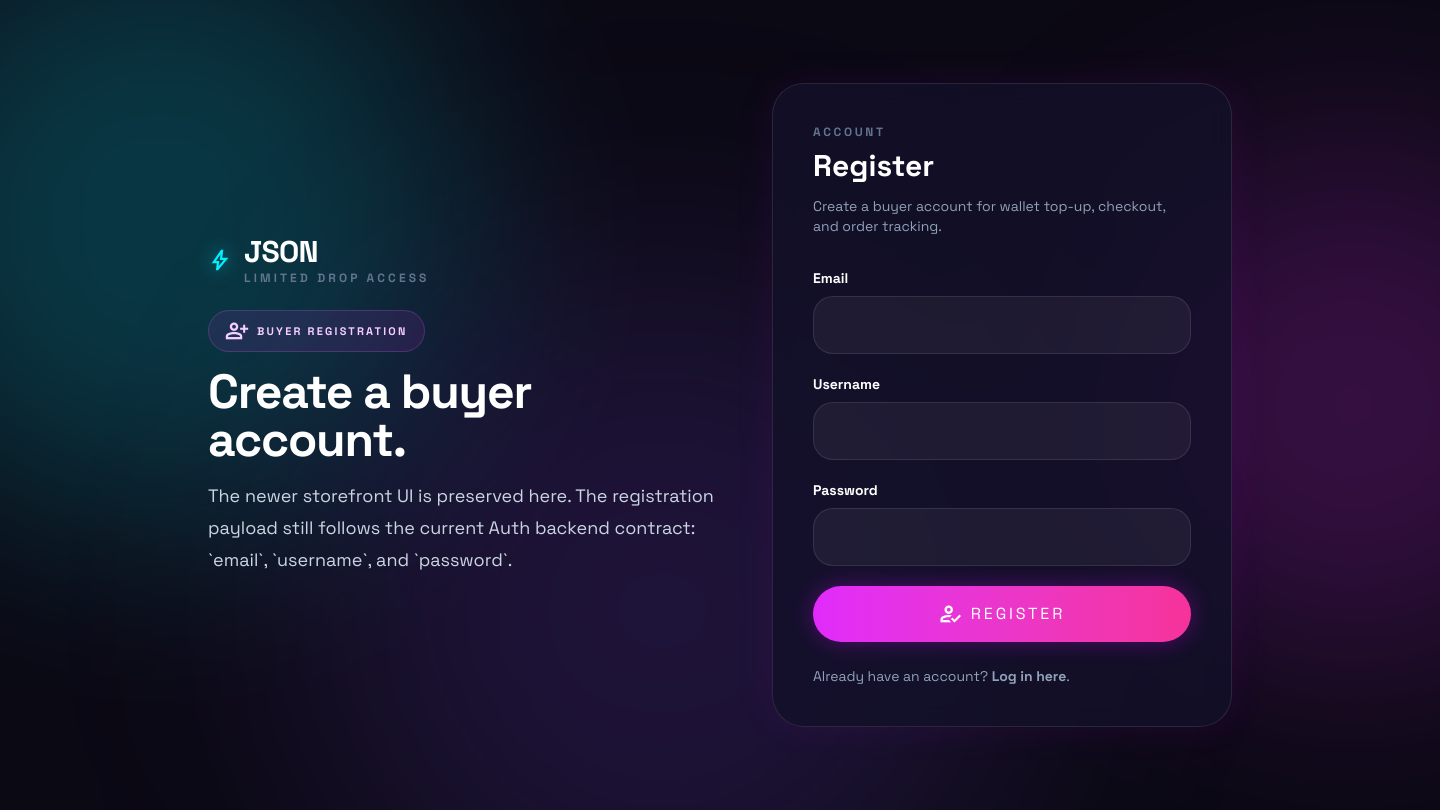
Test case: edge page and regression flows › shows registration failures from the auth service
The image size is (1440, 810).
Step 1. Type "taken@json.app" into the field labelled "Email" → (1002, 325), box [813,296,1191,354]
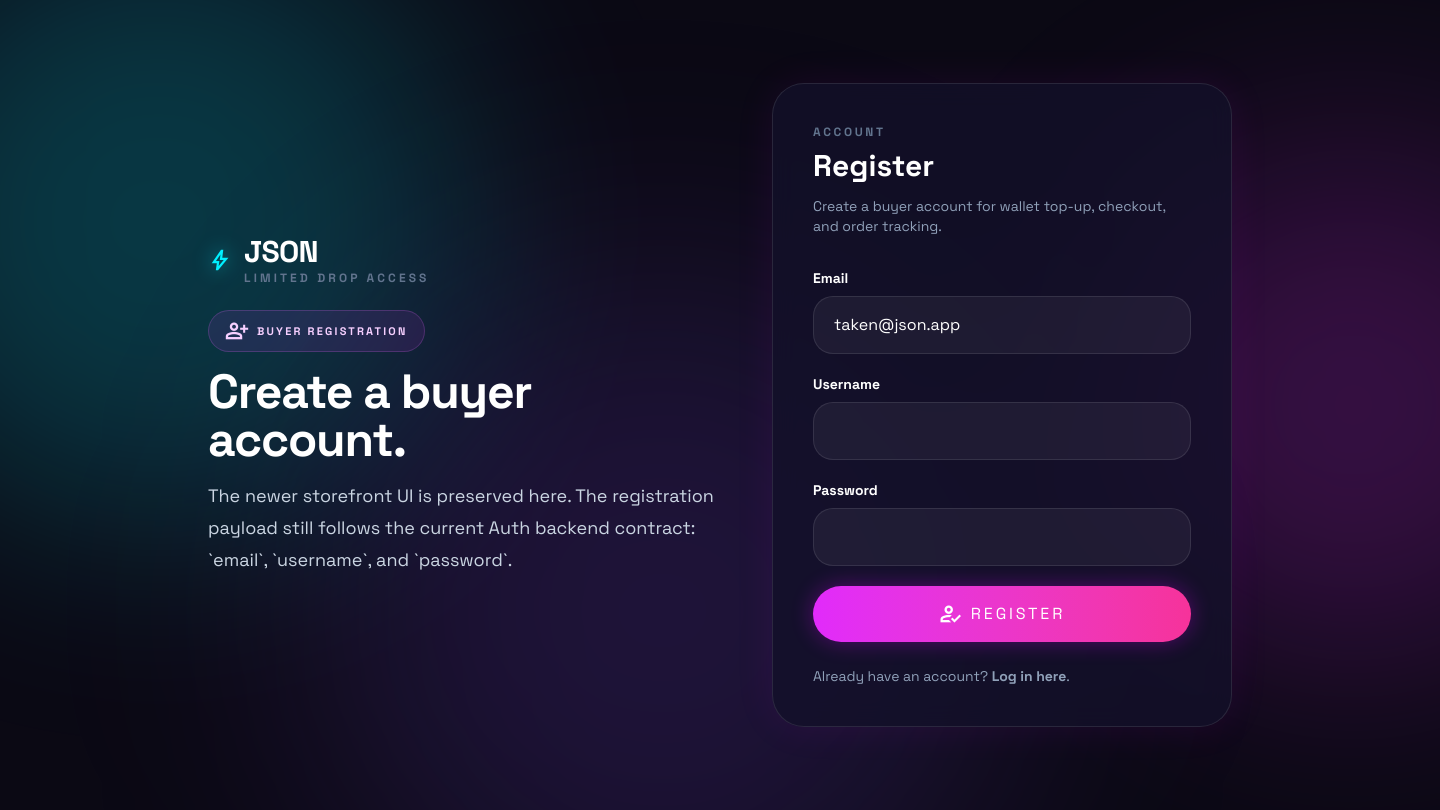
Step 2. Type "taken" into the field labelled "Username" → (1002, 431), box [813,402,1191,460]
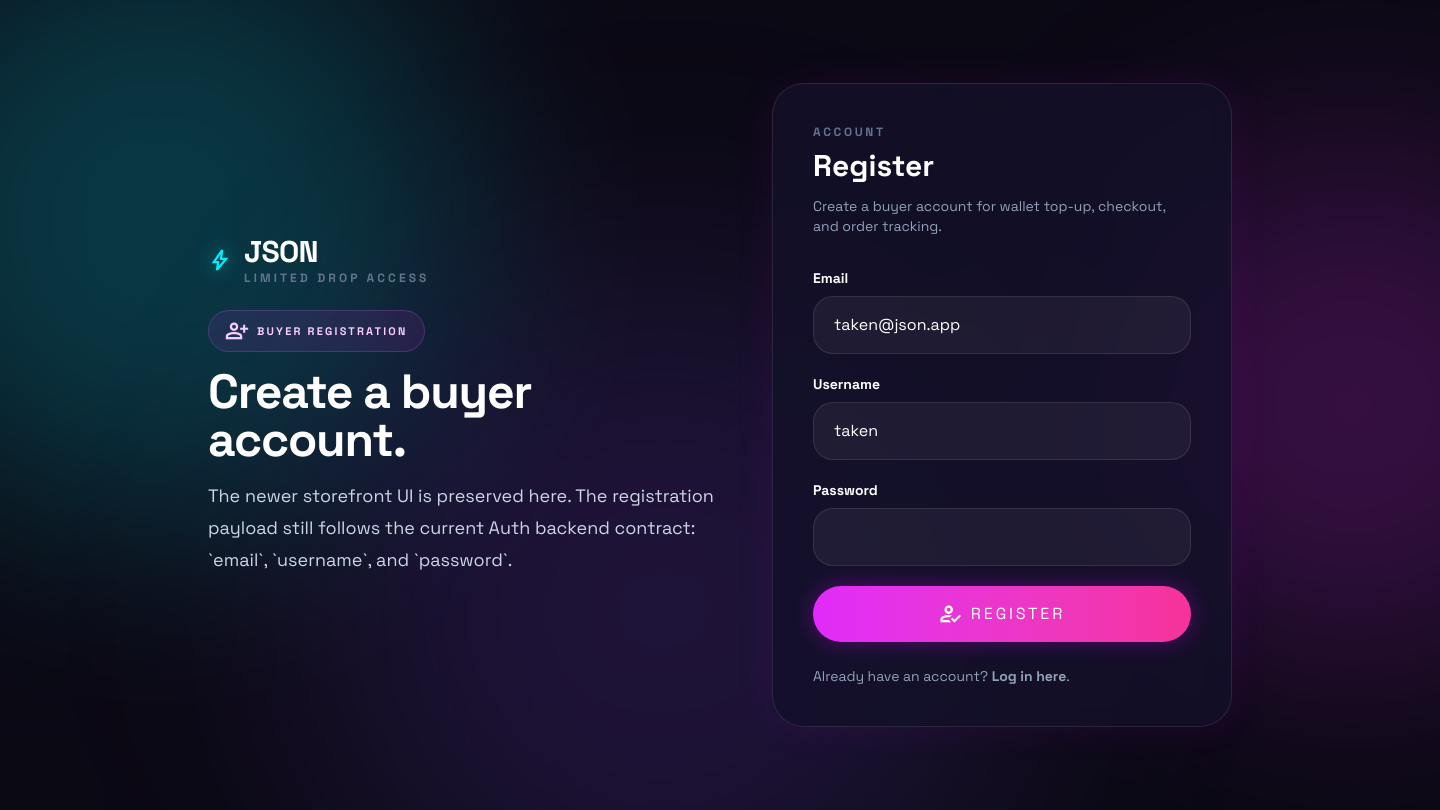
Step 3. Type "Password123!" into the password field labelled "Password" → (1002, 537), box [813,508,1191,566]
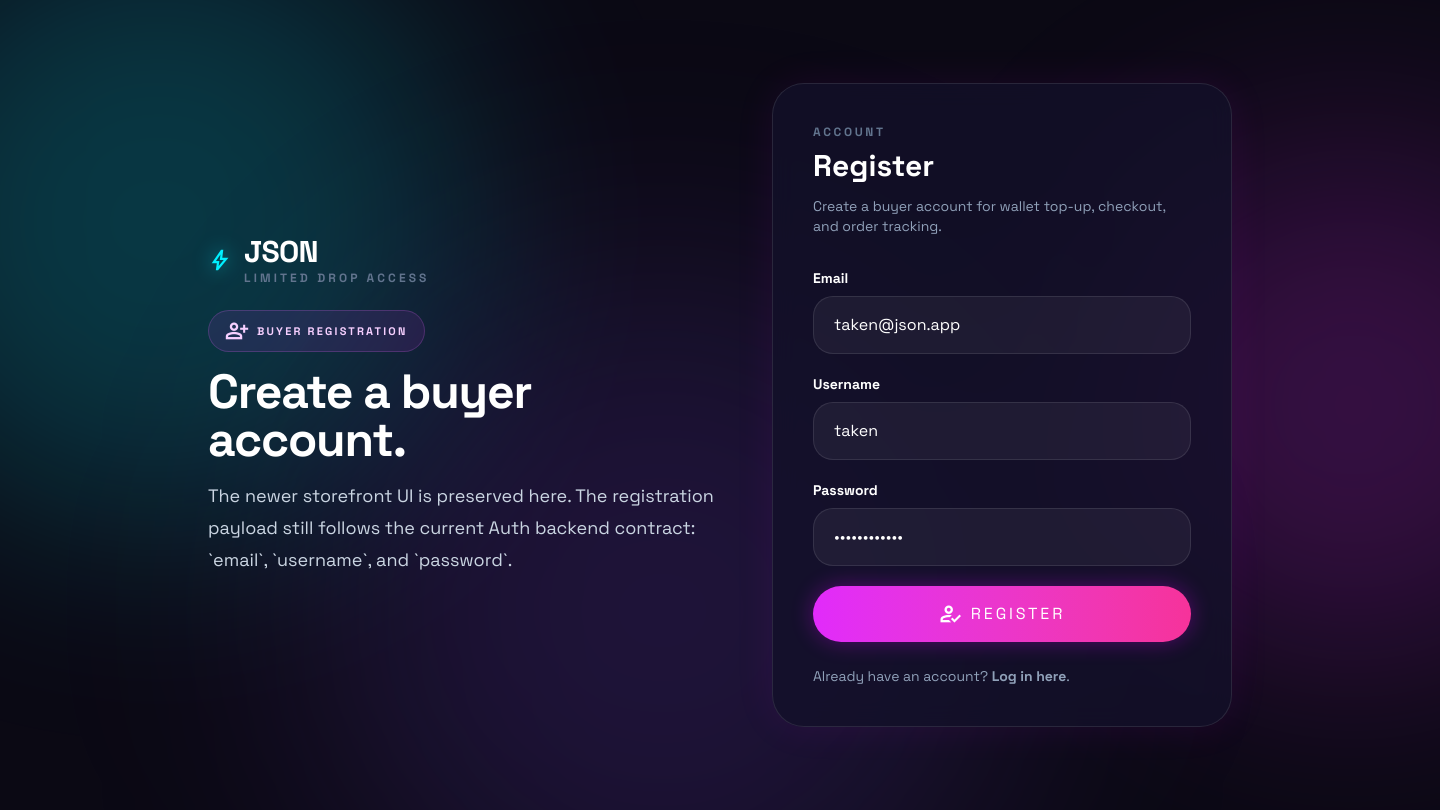
Step 4. Click the button "Register" → (1002, 614), box [813,586,1191,642]
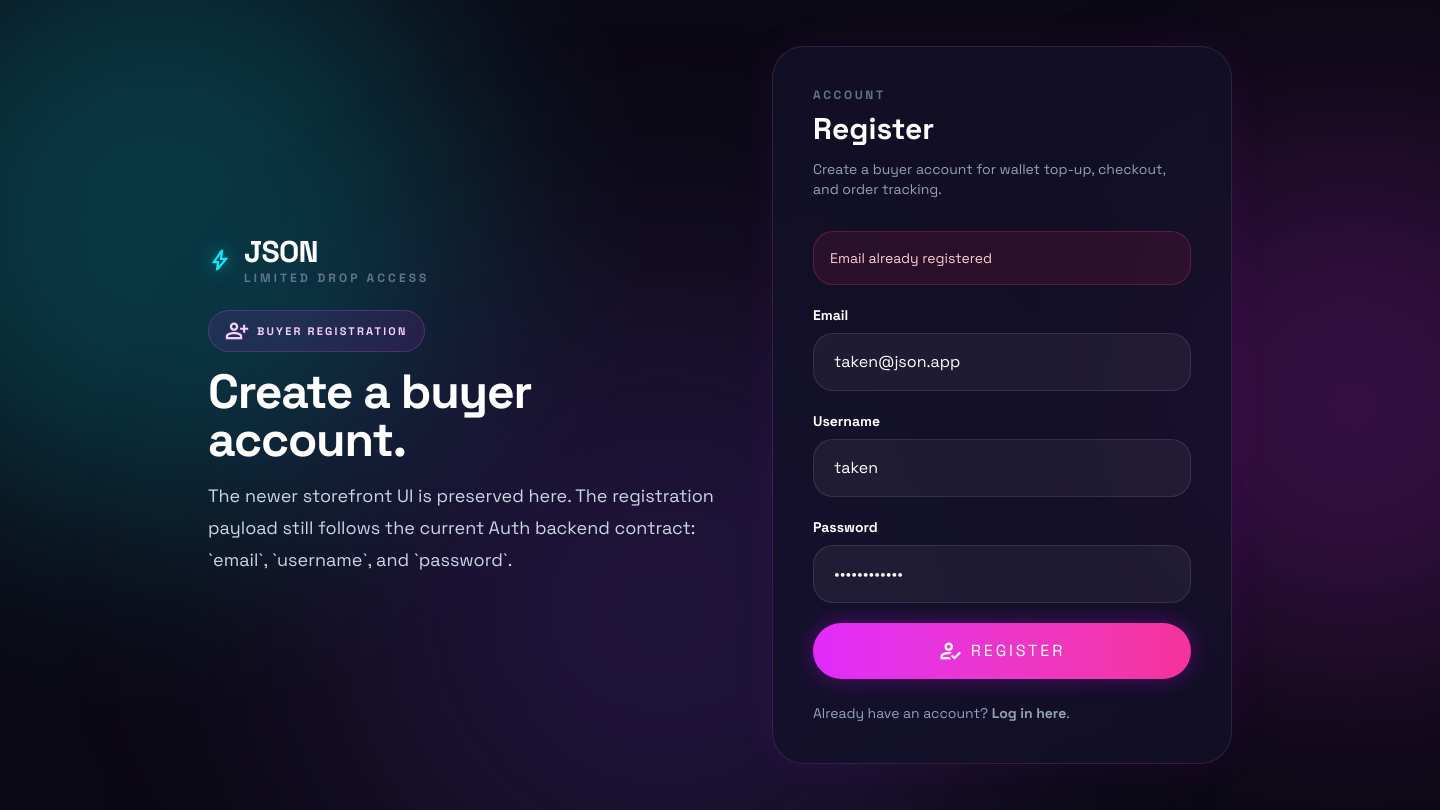
Check: the text "Email already registered" is shown, box [813,231,1191,285]
